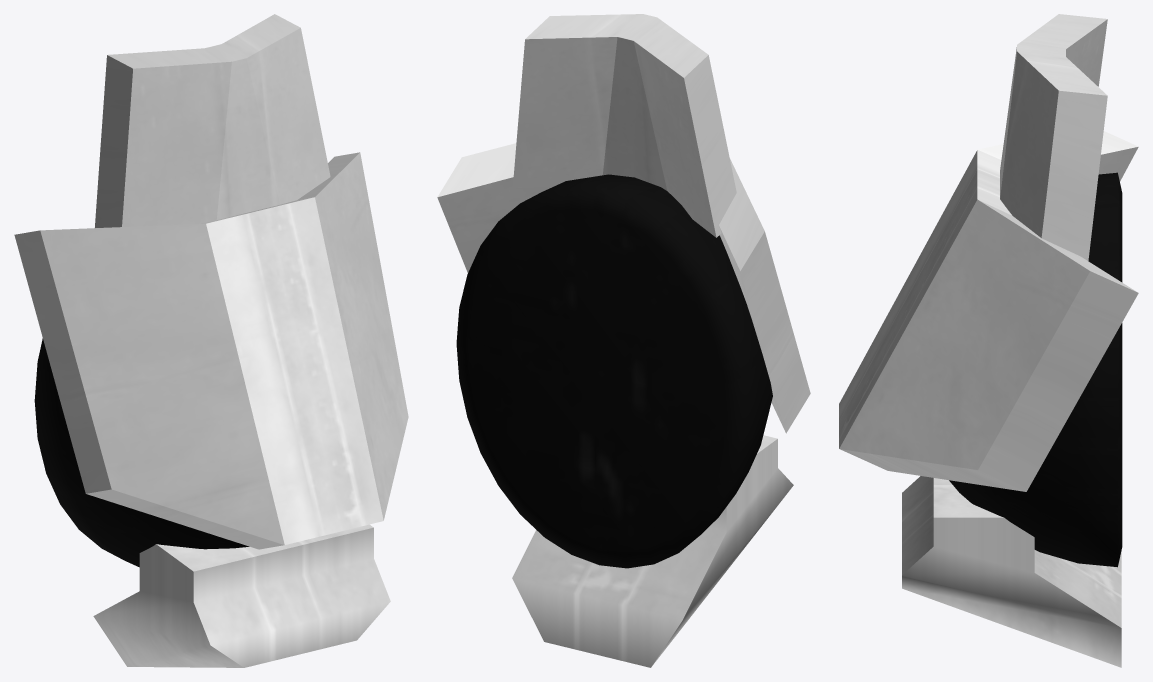
File: right_foot.obj
The picture shows the model from 3 angles, left to right: view 1: azimuth 30°, elevation 25°; view 2: azimuth 150°, elevation 25°; view 3: azimuth 270°, elevation 25°; orthographic projection. The views are drawn at different scales.
Parts seen in each view (by area): view 1: Cube.013, Cube.014, Cube.015, Sphere.002; view 2: Sphere.002, Cube.014, Cube.015, Cube.013; view 3: Cube.013, Cube.015, Cube.014, Sphere.002.
Boxes of the visible parts, left/top/right/bottom form: Cube.013: left=14, top=152, right=408, bottom=549; Cube.014: left=95, top=14, right=330, bottom=227; Cube.015: left=93, top=524, right=390, bottom=667; Sphere.002: left=34, top=338, right=249, bottom=567; Sphere.002: left=456, top=174, right=772, bottom=568; Cube.014: left=512, top=14, right=736, bottom=237; Cube.015: left=512, top=435, right=793, bottom=667; Cube.013: left=437, top=143, right=810, bottom=433; Cube.013: left=839, top=131, right=1138, bottom=491; Cube.015: left=902, top=476, right=1121, bottom=667; Cube.014: left=1000, top=14, right=1107, bottom=260; Sphere.002: left=949, top=172, right=1122, bottom=567.
Size of the model in its own units: 0.1914 by 0.3624 by 0.1657.
